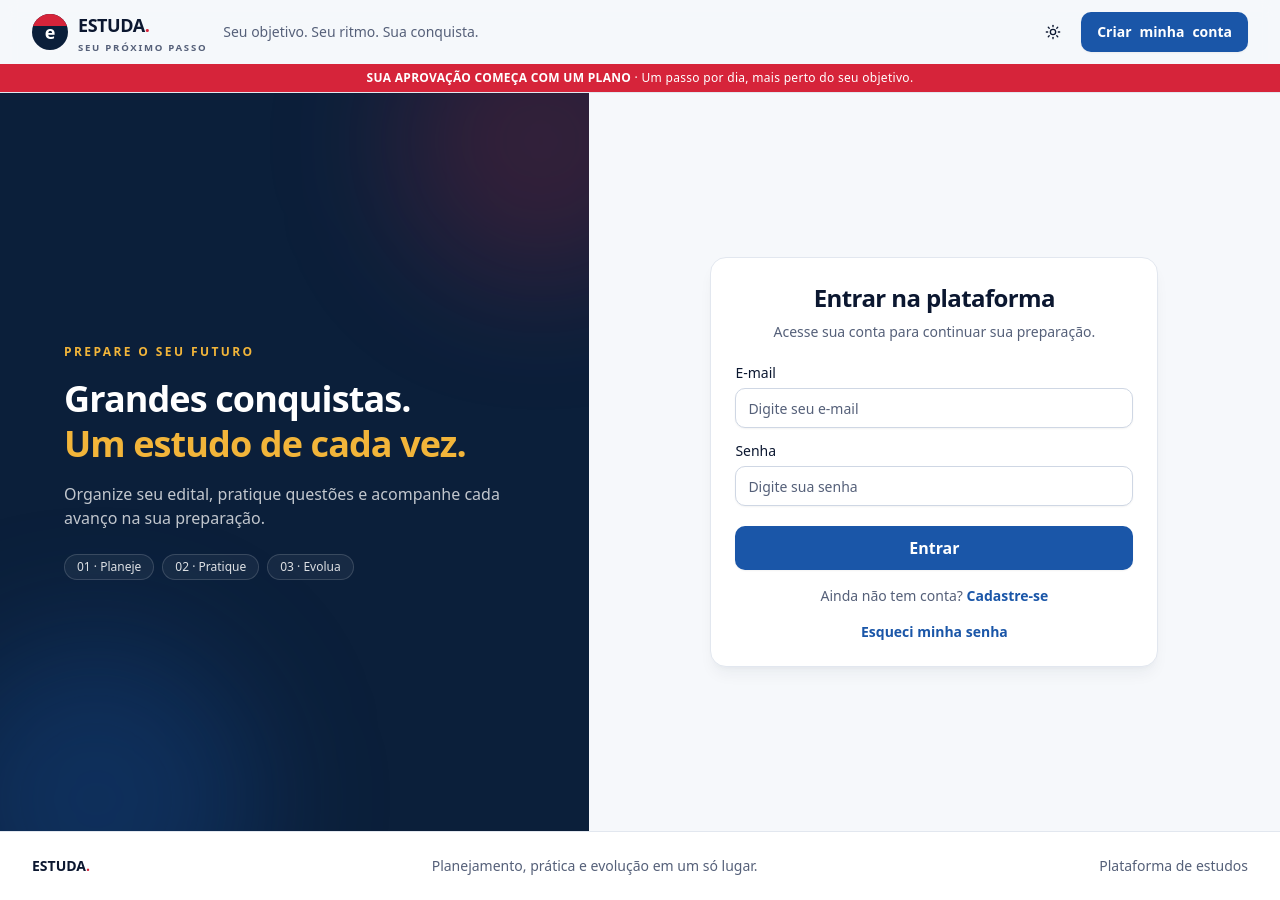
Test: App - autenticacao › nao mostra a area autenticada quando as credenciais sao recusadas
Type "ana@email.com" into the field labelled "E-mail" at (934,408), box [735,388,1133,428]
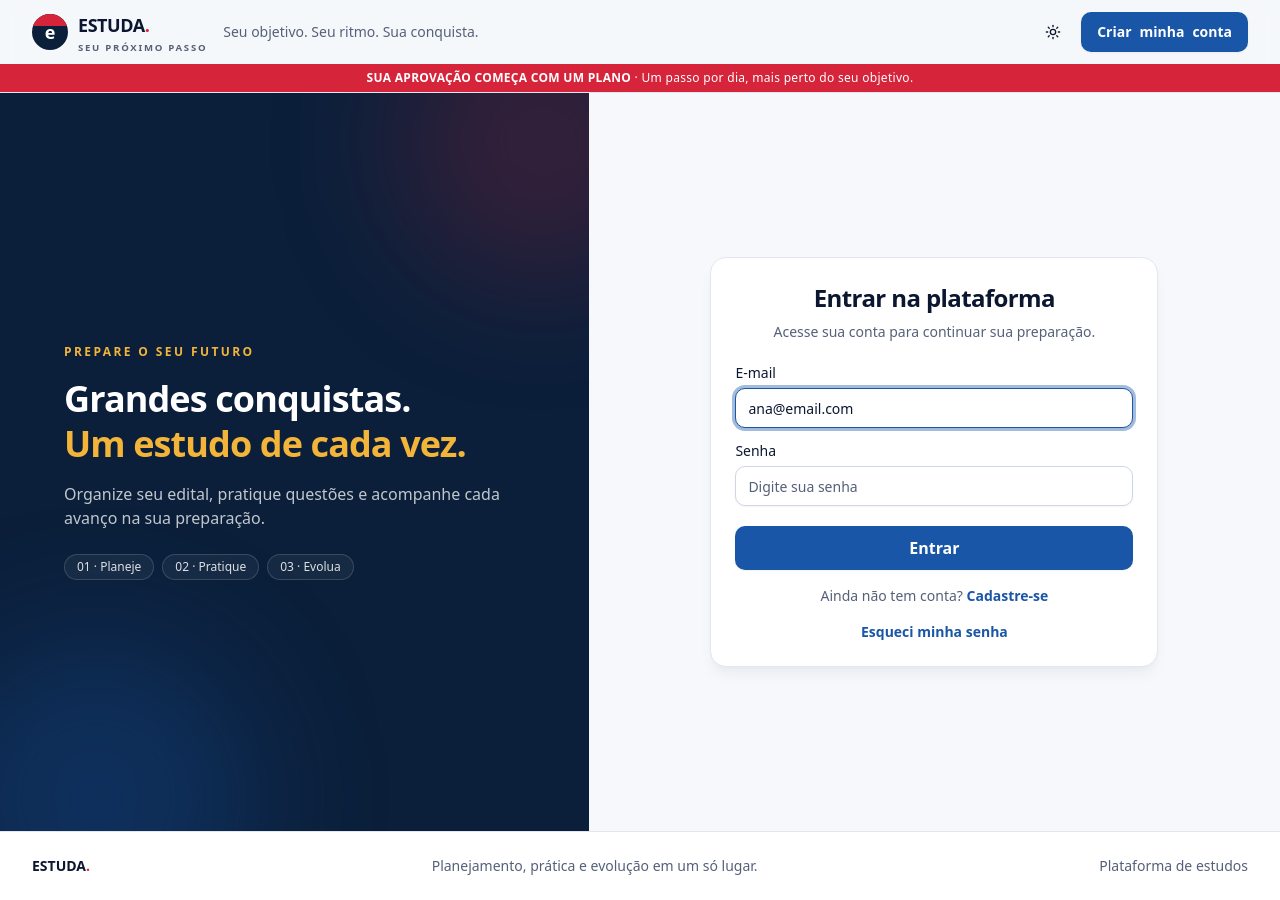
Type "senha-errada" into the password field labelled "Senha" at (934,486), box [735,466,1133,506]
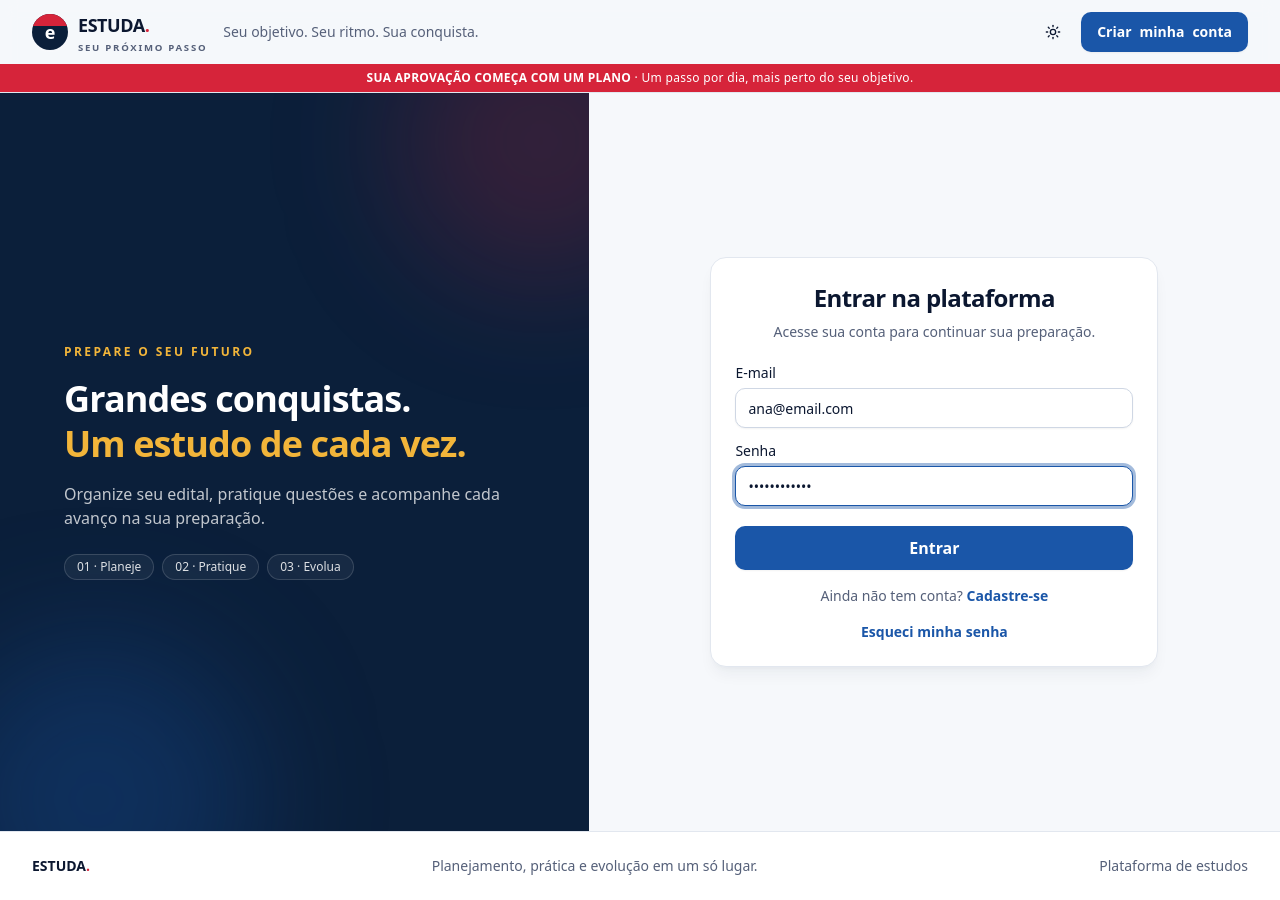
Click the button "Entrar" at (934,548), box [735,526,1133,570]
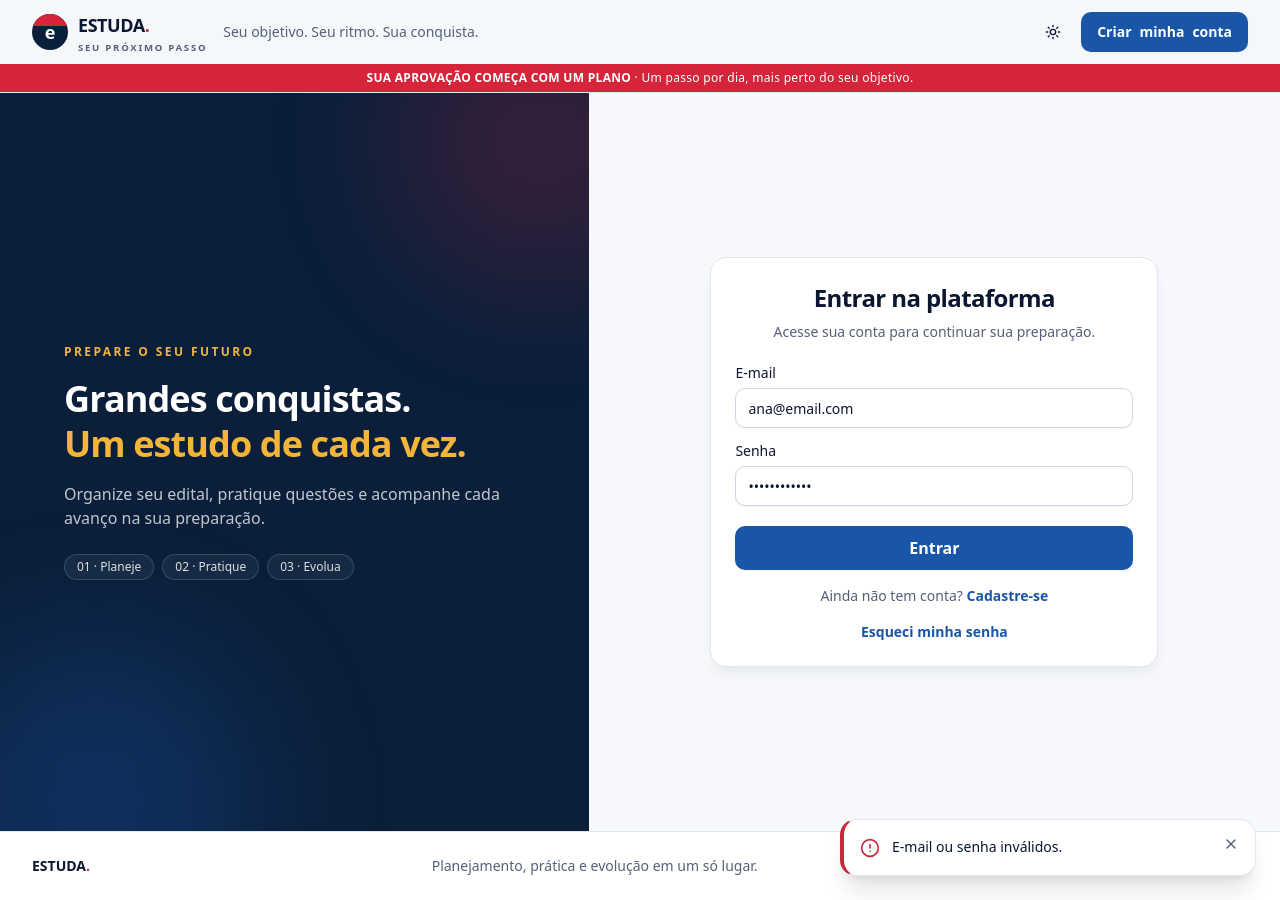
Expected: the text "E-mail ou senha inválidos." is shown, [892,837,1062,856]
